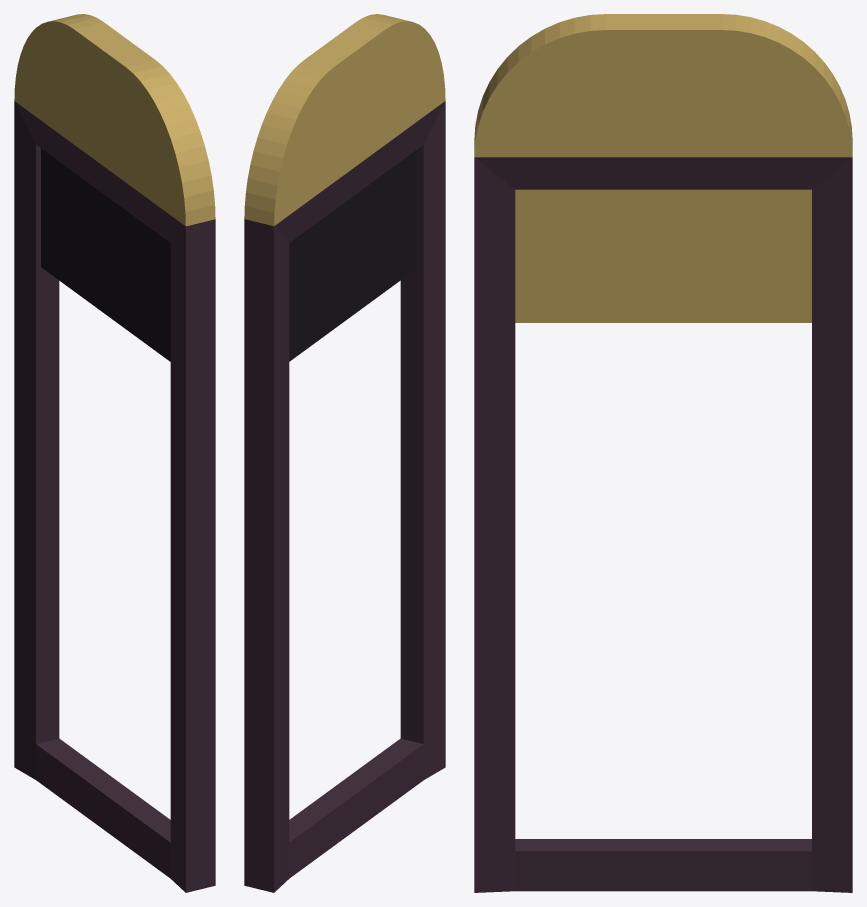
The model's file is door - animation.fbx.
3 views of the same model, side by side, from view 1: azimuth 30°, elevation 25°; view 2: azimuth 150°, elevation 25°; view 3: azimuth 270°, elevation 25° (orthographic). The views are drawn at different scales.
Visible parts, largest first — view 1: Plane.003, Cube; view 2: Plane.003, Cube; view 3: Plane.003, Cube.
Boxes of the visible parts, x1,y1,x2,y2 form: Plane.003: [14, 14, 215, 892]; Cube: [41, 148, 170, 361]; Plane.003: [244, 14, 445, 892]; Cube: [289, 148, 418, 361]; Plane.003: [474, 14, 852, 892]; Cube: [515, 189, 811, 322].
Bounding box in the file's own units: 10 × 252 × 100.
